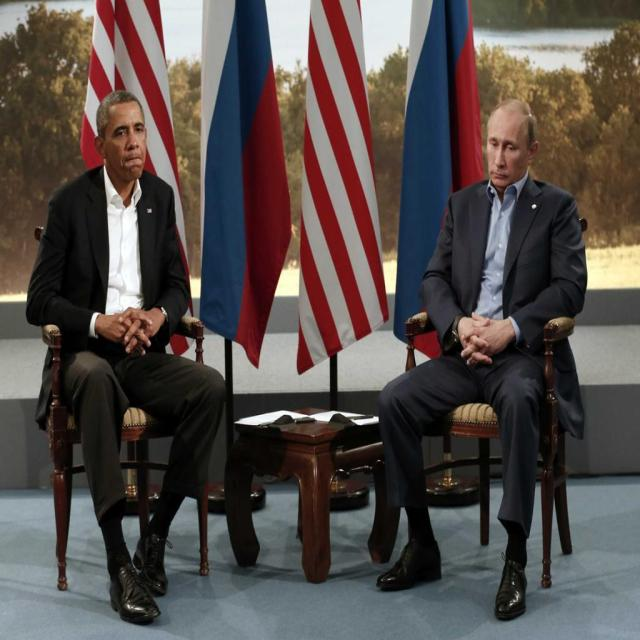Face: (480, 121, 541, 186), (107, 95, 150, 185)
